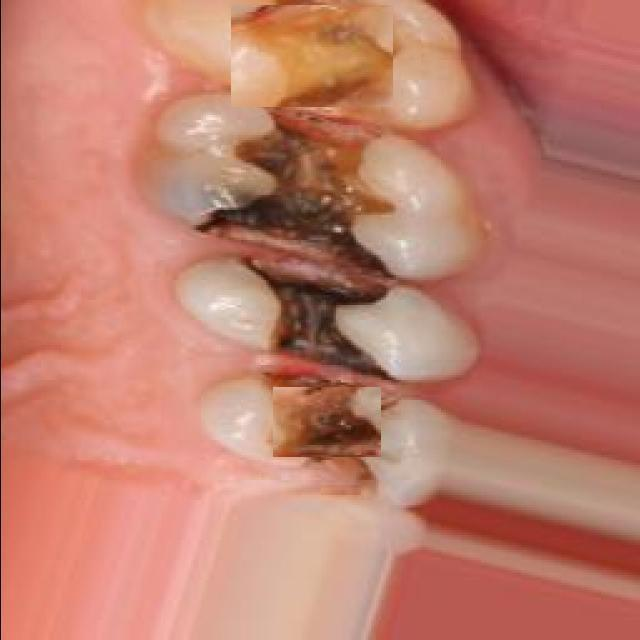caries: (220, 118, 390, 238), (230, 5, 392, 107), (247, 265, 365, 350), (272, 388, 380, 458)
